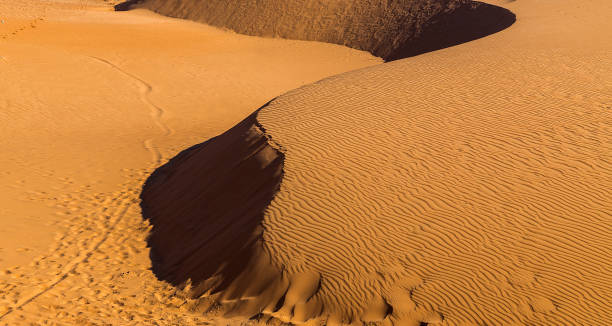animal_footprint: (4, 168, 176, 321), (0, 17, 44, 39)
